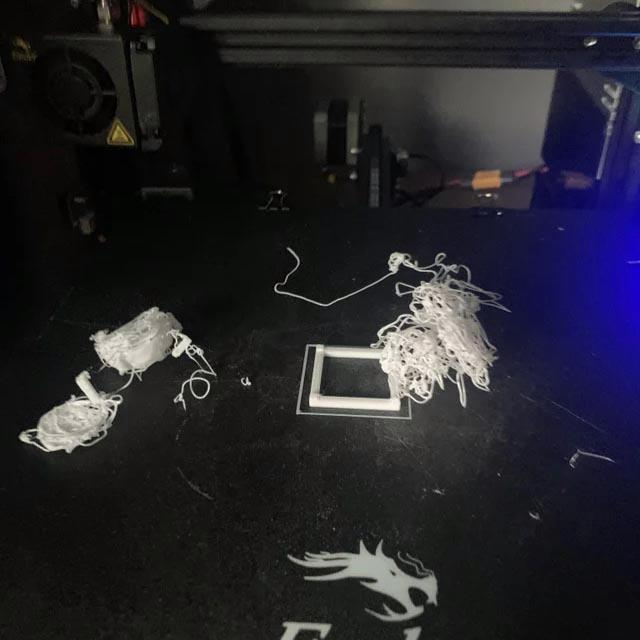Spaghetti: (372, 252, 510, 408), (90, 304, 170, 392), (20, 393, 124, 454), (274, 246, 372, 310), (167, 328, 217, 411)
